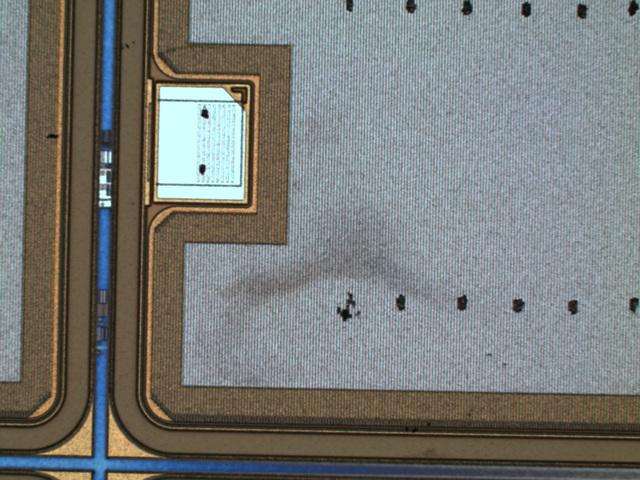SEZ BURNT: (200, 109, 505, 396)
